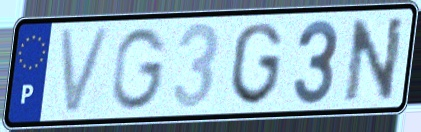3: (170, 19, 226, 114), (290, 16, 340, 107)
G: (110, 26, 170, 113), (228, 19, 285, 108)
N: (342, 14, 407, 106)
V: (56, 24, 116, 118)
